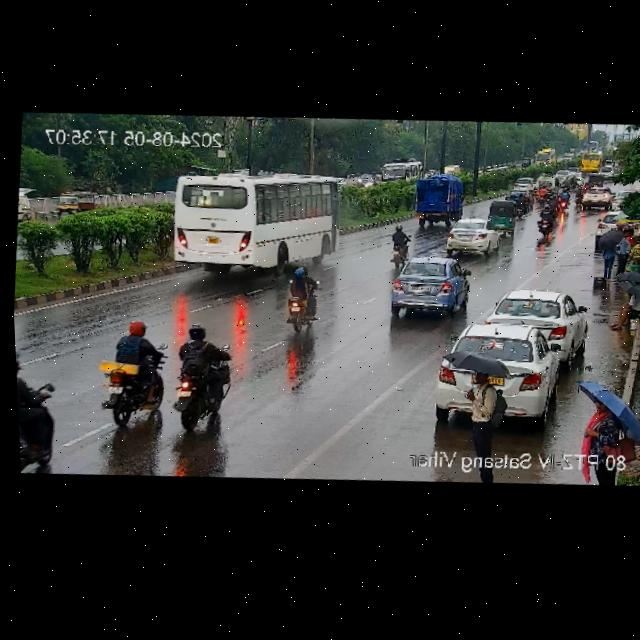bus: (163, 155, 348, 286), (382, 157, 422, 189), (579, 151, 603, 174), (536, 146, 557, 167)
car: (437, 317, 566, 408), (379, 248, 471, 325), (490, 282, 589, 352), (442, 216, 502, 257), (594, 207, 640, 240), (49, 188, 97, 219), (487, 199, 517, 235), (581, 186, 612, 212), (505, 186, 534, 202), (611, 189, 633, 210), (512, 176, 534, 191), (588, 172, 605, 190)
motorcycle: (167, 319, 248, 437), (89, 319, 173, 427), (16, 355, 68, 475), (281, 261, 323, 335), (383, 224, 413, 258), (537, 201, 557, 238), (557, 188, 572, 211), (514, 192, 527, 218), (573, 184, 583, 208), (537, 183, 547, 204), (568, 173, 577, 192), (580, 181, 589, 192), (561, 176, 569, 188)
person: (458, 352, 510, 458), (576, 395, 618, 456), (591, 224, 636, 279), (602, 280, 640, 338)
truck: (406, 162, 469, 231)
